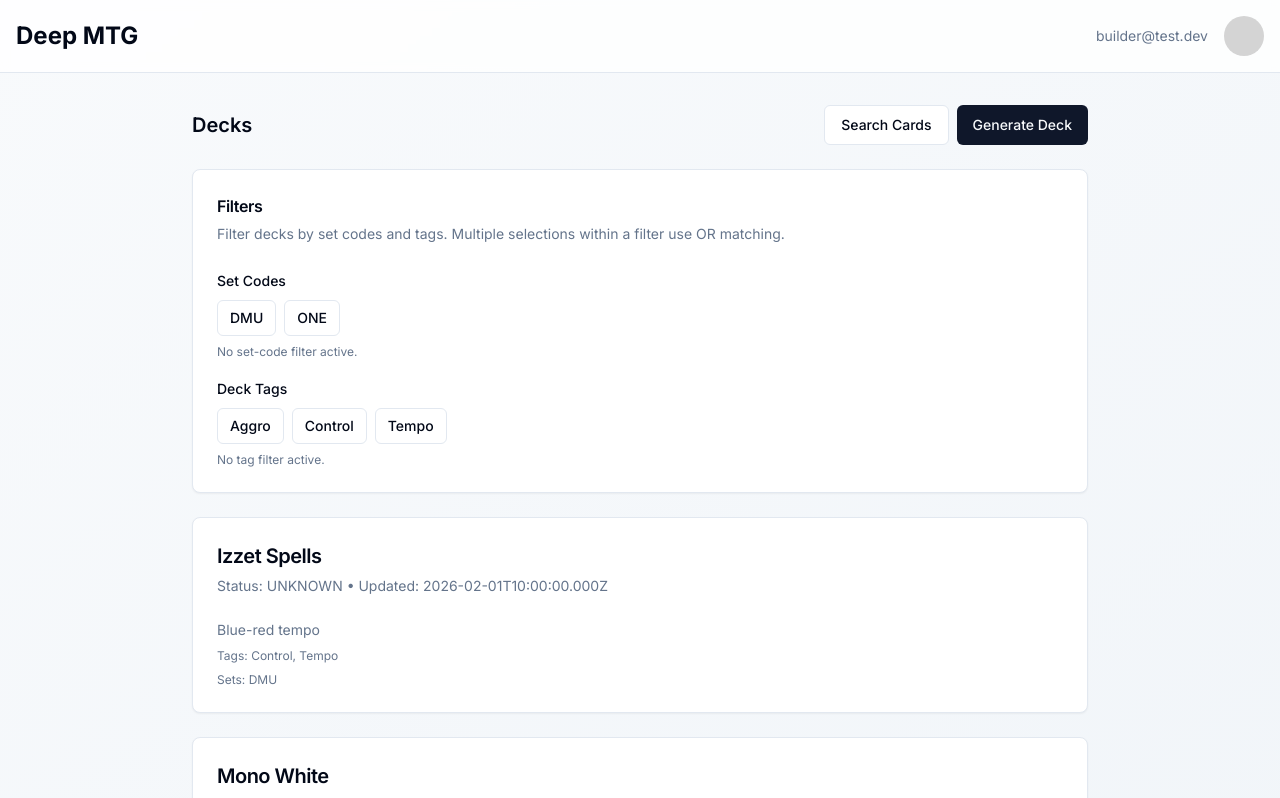
Scenario: DashboardPage › filters decks by selected set code
Check: the heading "Izzet Spells" is shown, box top-left (217, 544), bottom-right (322, 568)
Click the button "ONE". click: (312, 318)
box: top-left (284, 300), bottom-right (340, 336)
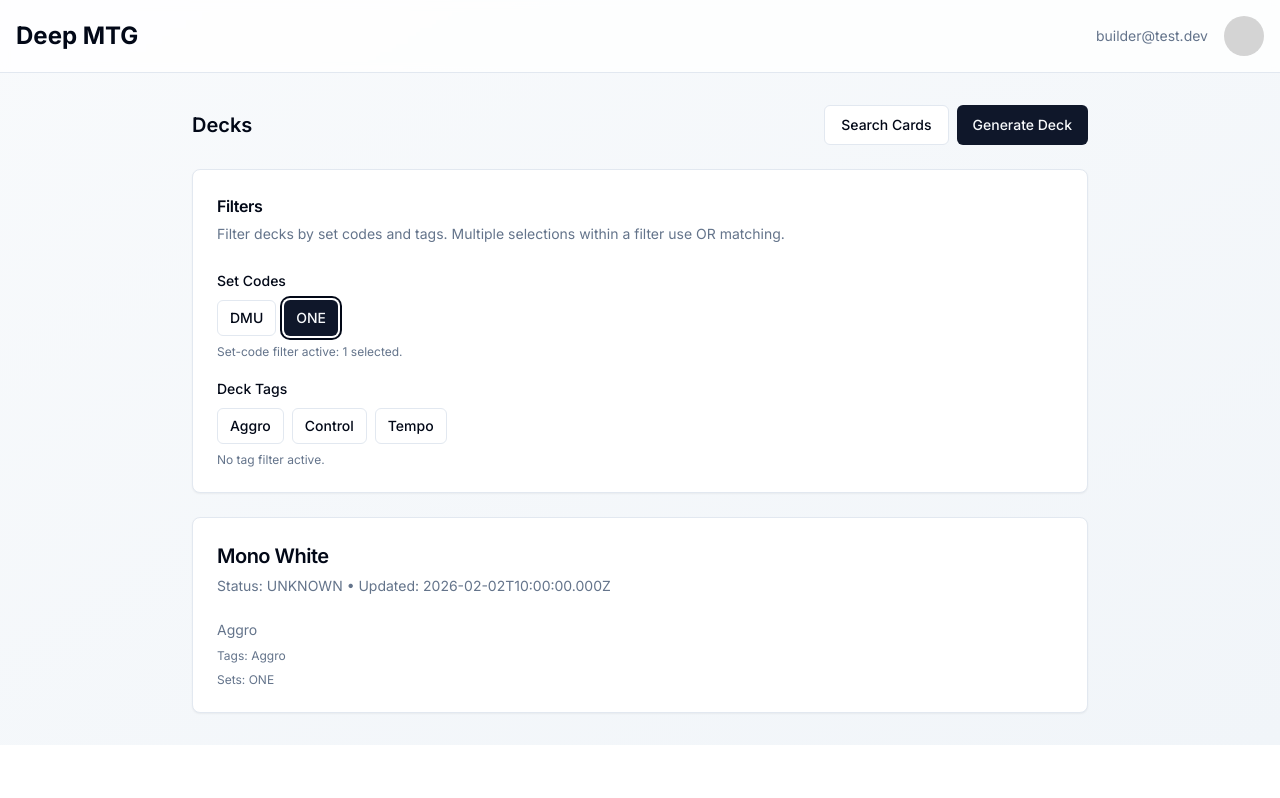
Check: the heading "Mono White" is shown, box top-left (217, 544), bottom-right (329, 568)
Check: the heading "Izzet Spells" is gone
Check: the text "Set-code filter active: 1 selected." is shown, box top-left (217, 344), bottom-right (402, 359)
